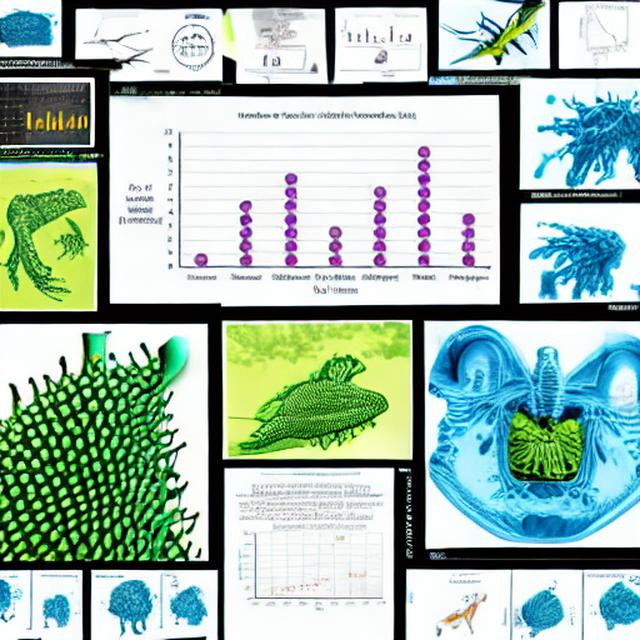Graph: (112, 107, 494, 300), (232, 520, 389, 612), (17, 99, 91, 145), (573, 2, 640, 52), (336, 12, 397, 47)
